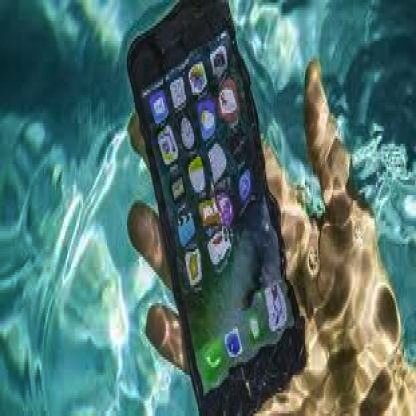cellphone: (129, 2, 304, 414)
